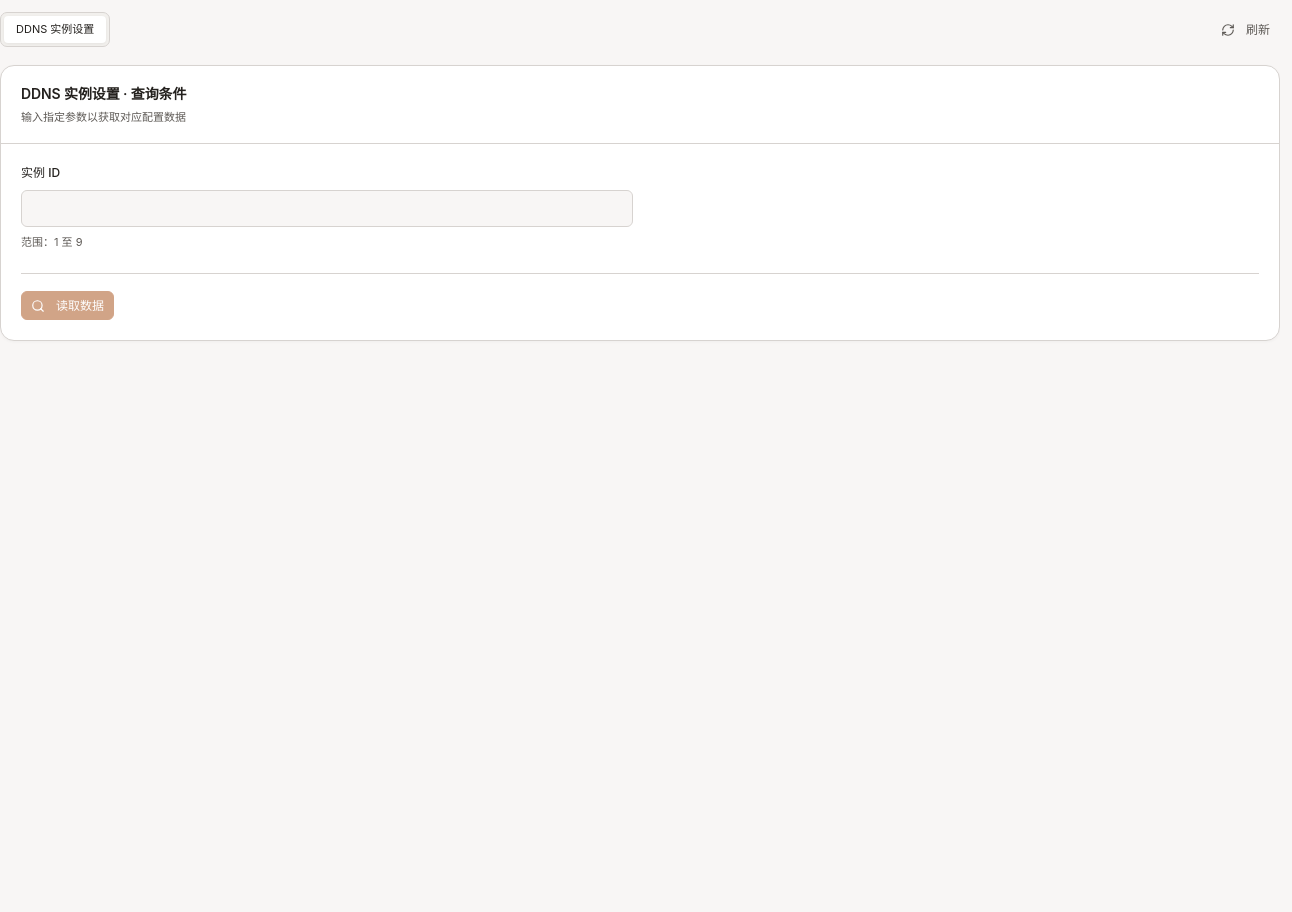
Test case: FeatureDomainPanel › displays 未配置 badge and does not pre-fill credentials when state data has configured: false
The width and height of the screenshot is (1292, 912).
Type "1" into the number field labelled "实例 ID" at point(327, 208), box top-left (21, 190), bottom-right (633, 226)
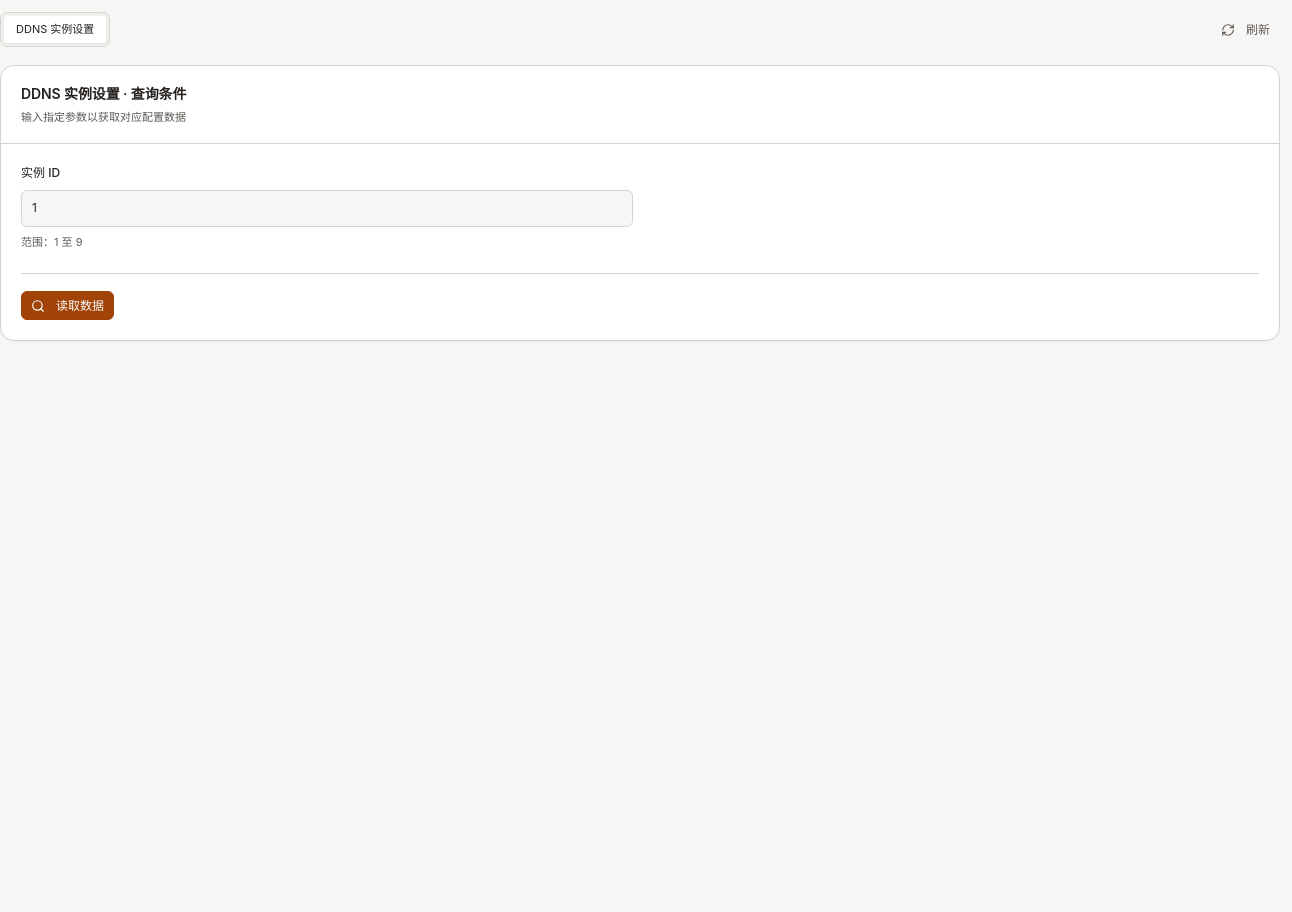
Click the button "读取数据" at point(68, 306), box top-left (21, 291), bottom-right (114, 320)
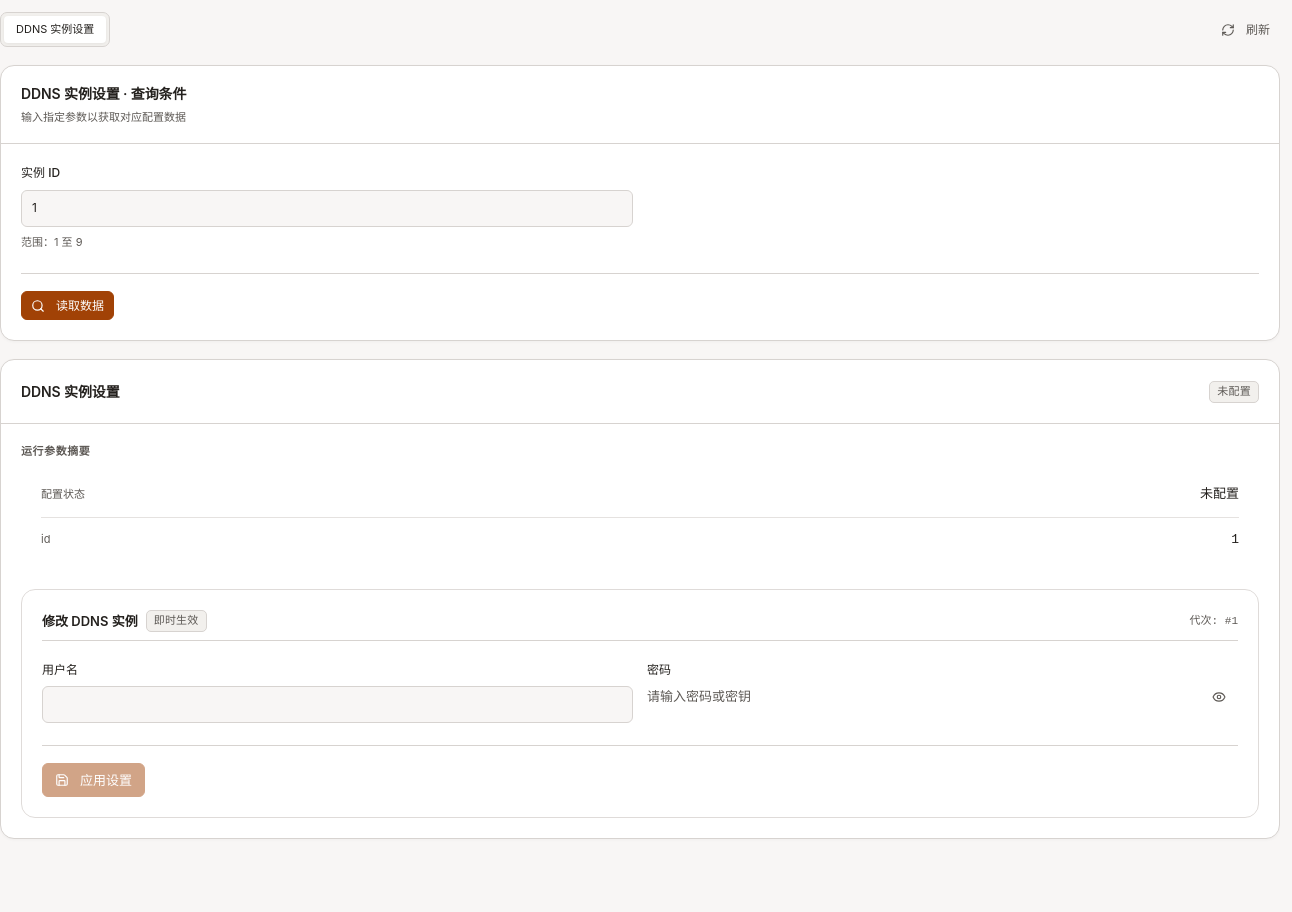
Check: the text "未配置" in the row of "配置状态" is shown, box top-left (1200, 487), bottom-right (1239, 502)
